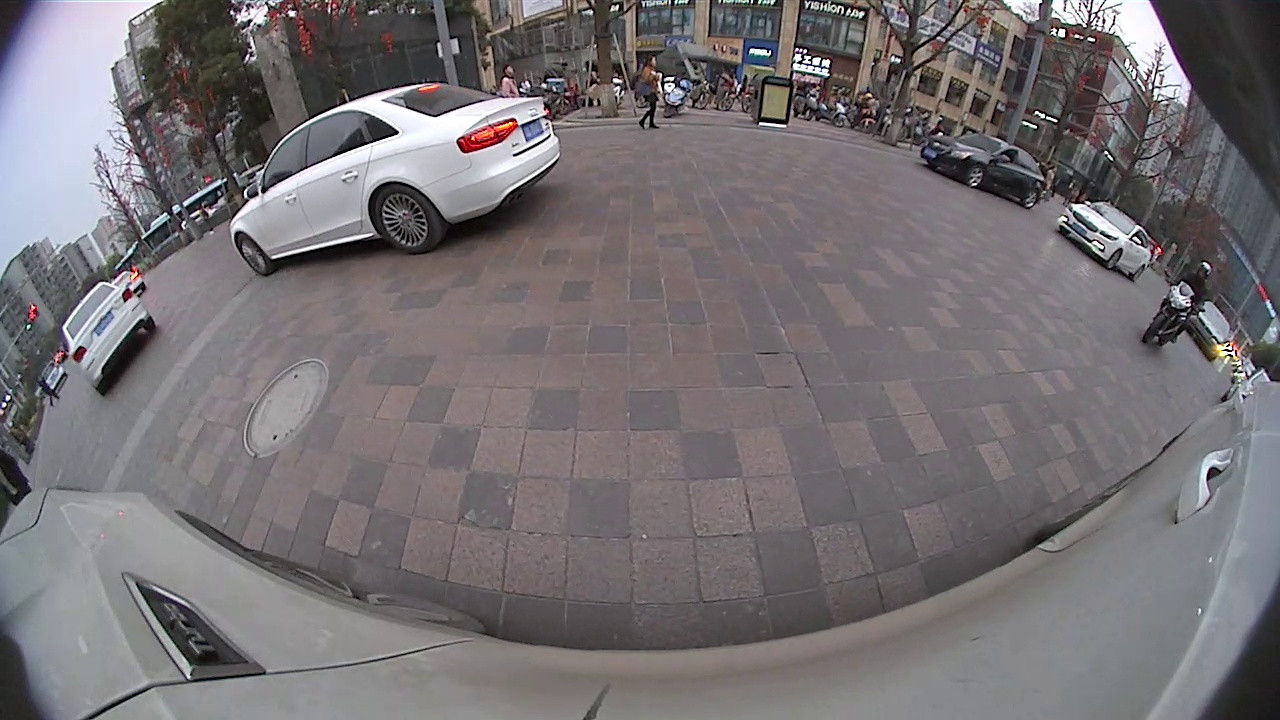car: (226, 78, 565, 279), (59, 278, 160, 398), (920, 123, 1051, 211), (1054, 200, 1155, 285), (1191, 295, 1235, 363)
front: (231, 230, 273, 279), (963, 161, 987, 190)
person: (638, 52, 664, 132)
rear: (367, 179, 440, 258), (1022, 184, 1041, 211)
rider: (1136, 257, 1212, 352)
